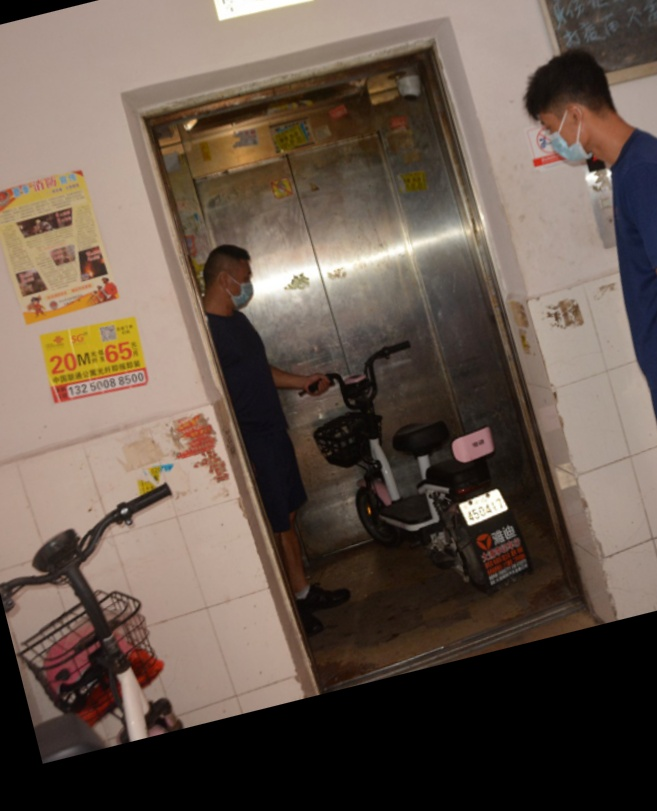ebike: (0, 476, 180, 762), (301, 344, 510, 583)
person: (201, 241, 344, 643), (533, 58, 657, 391)
